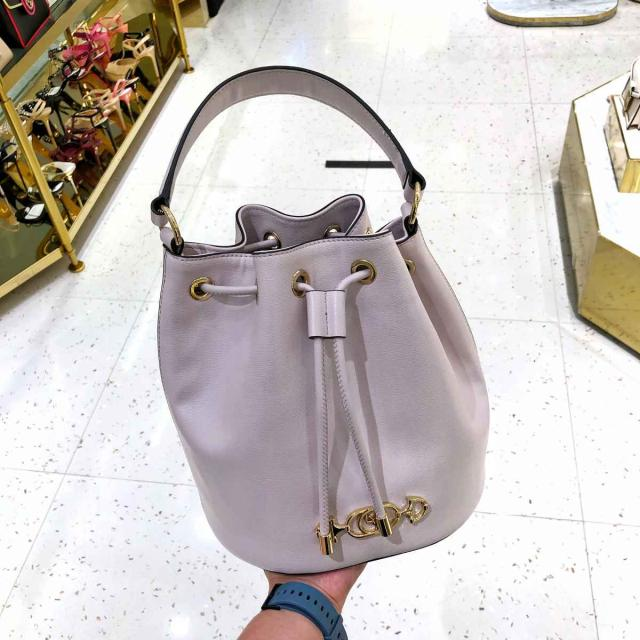Handbag: (139, 188, 504, 578)
